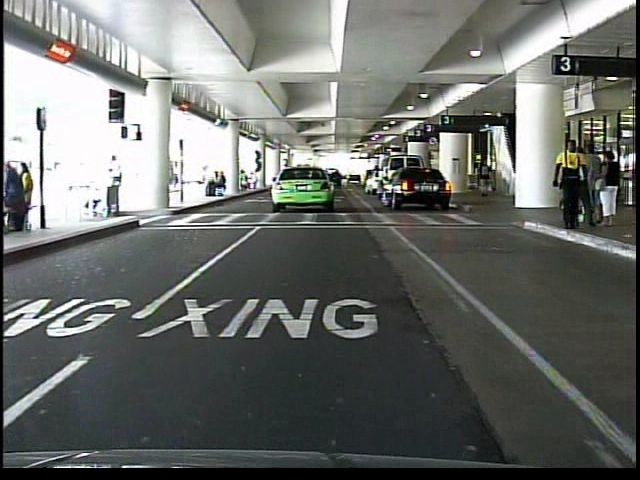person: (546, 141, 588, 238), (578, 145, 603, 233), (102, 156, 135, 222), (597, 146, 618, 235), (474, 155, 498, 204)
